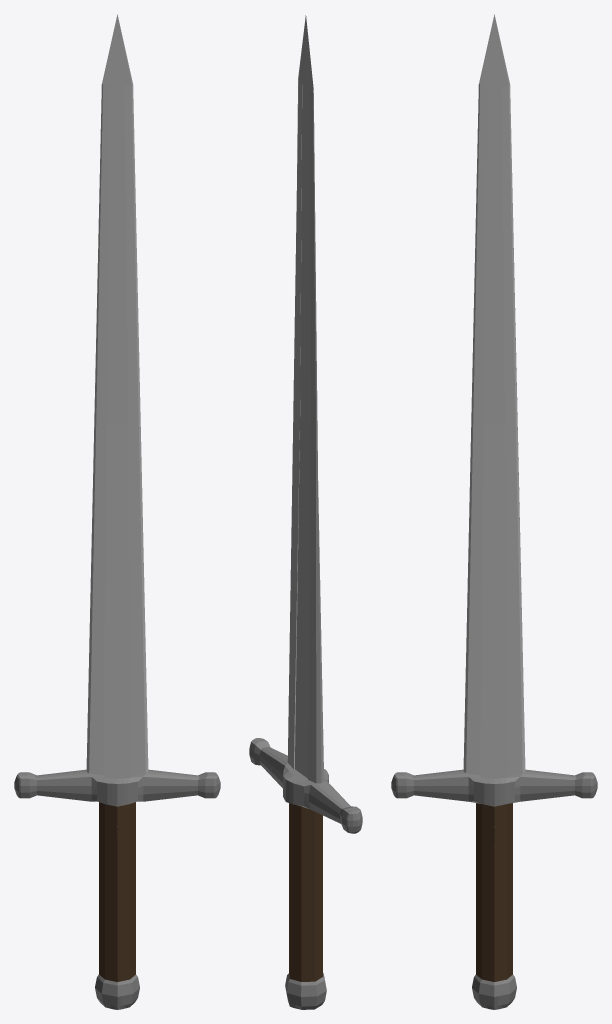
Rendered from Low-Poly_sword.fbx.
3 renders of one model, left to right at view 1: azimuth 90°, elevation 25°; view 2: azimuth 210°, elevation 25°; view 3: azimuth 270°, elevation 25°, orthographic.
Parts seen in each view (by area): view 1: Cube; view 2: Cube; view 3: Cube.
Boxes of the visible parts, <box> form: Cube: <box>14,14,220,1009</box>; Cube: <box>249,15,362,1009</box>; Cube: <box>391,14,597,1009</box>.
Bounding box in the file's own units: 42.11 × 995 × 187.
